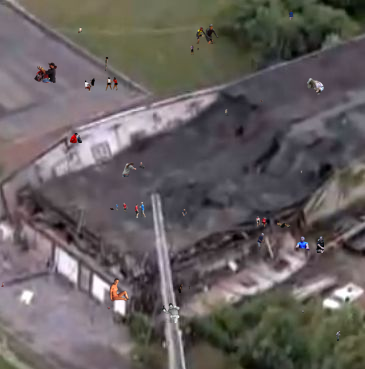Human: (294, 236, 324, 253), (109, 278, 130, 302), (196, 24, 221, 44), (115, 202, 146, 218), (85, 77, 118, 92), (34, 62, 57, 83), (158, 303, 180, 323), (122, 162, 145, 177), (307, 78, 324, 95), (289, 10, 311, 20), (257, 233, 265, 253), (256, 216, 267, 228), (277, 220, 293, 228), (70, 133, 82, 143), (178, 284, 191, 293), (190, 45, 199, 55), (182, 209, 192, 216), (105, 57, 109, 71), (336, 331, 341, 341), (159, 355, 166, 361), (78, 27, 82, 34), (225, 109, 229, 116), (1, 282, 4, 287), (300, 170, 303, 174), (107, 307, 110, 310), (260, 99, 263, 102), (110, 208, 114, 210), (302, 310, 304, 313), (166, 230, 167, 233)
